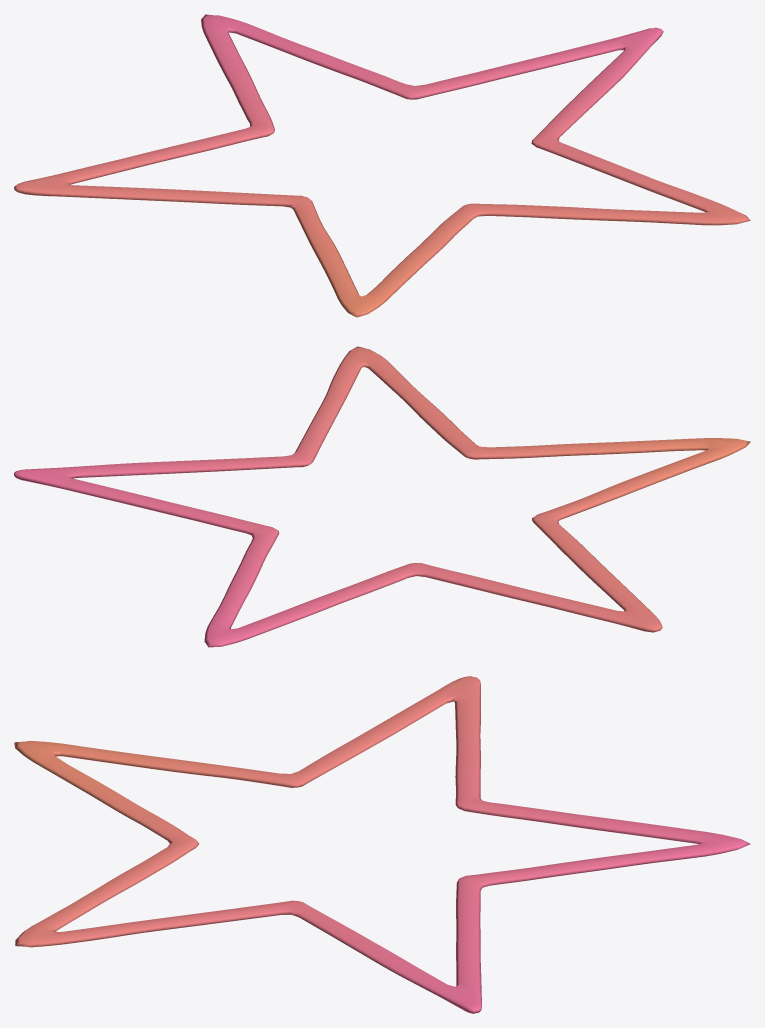
Rendered from Star.fbx.
The picture shows the model from 3 angles, top to bottom: view 1: azimuth 30°, elevation 25°; view 2: azimuth 150°, elevation 25°; view 3: azimuth 270°, elevation 25°; orthographic projection. The views are drawn at different scales.
Visible parts, largest first — view 1: Star; view 2: Star; view 3: Star.
Boxes of the visible parts, x1=… form: Star: x1=14, y1=14, x2=750, y2=317; Star: x1=14, y1=346, x2=750, y2=647; Star: x1=14, y1=676, x2=750, y2=1013.
Size of the model in its own units: 11.64 by 0.1 by 10.82.
1 material, 1 textured.
